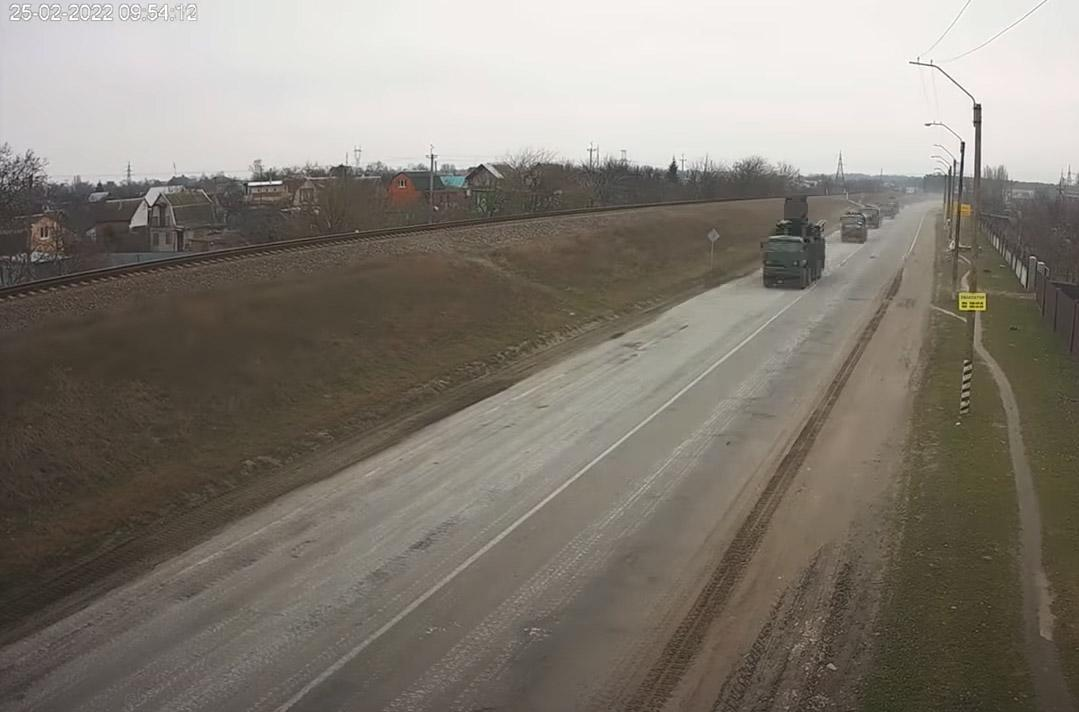truck: (752, 194, 830, 301), (840, 208, 866, 248), (863, 202, 882, 234)
